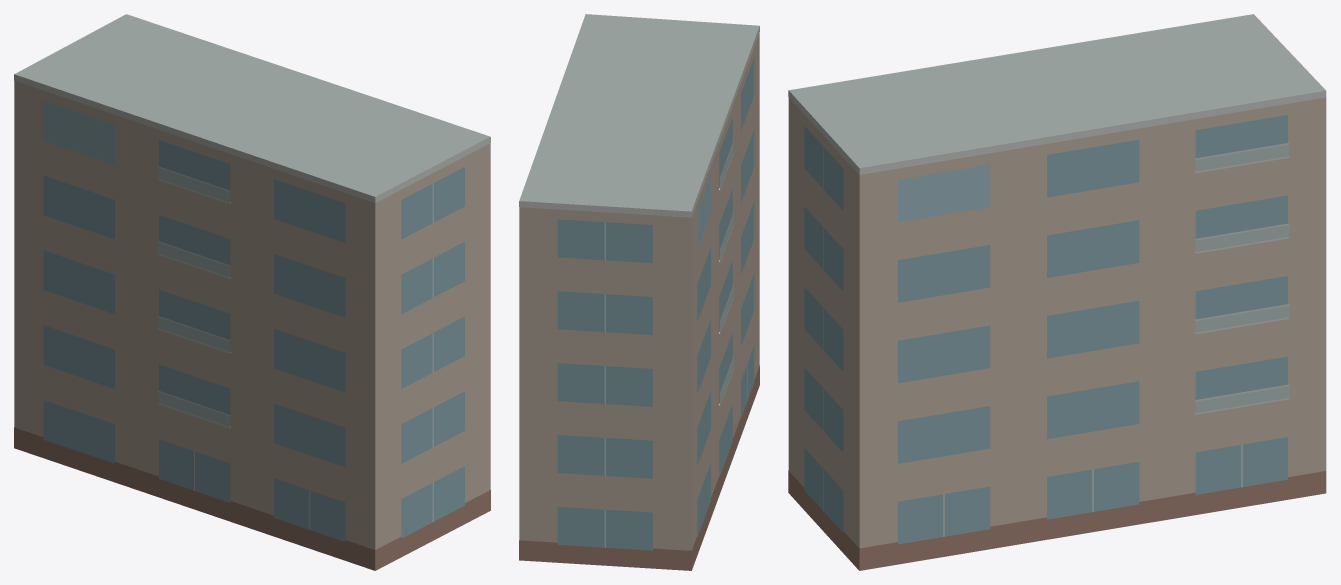
File: survey-upis-33017809.glb
3 renders of one model, left to right at view 1: azimuth 30°, elevation 25°; view 2: azimuth 150°, elevation 25°; view 3: azimuth 270°, elevation 25°, orthographic. The views are drawn at different scales.
Visible parts, largest first — view 1: survey-upis-33017809.tmp; view 2: survey-upis-33017809.tmp; view 3: survey-upis-33017809.tmp.
Boxes of the visible parts, <box> form: survey-upis-33017809.tmp: <box>14,14,490,570</box>; survey-upis-33017809.tmp: <box>519,14,759,570</box>; survey-upis-33017809.tmp: <box>788,14,1326,570</box>.
Bounding box in the file's own units: 11.92 × 14.5 × 17.56.
